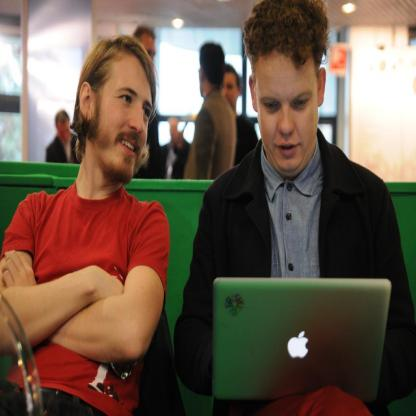board: (212, 278, 392, 404)
